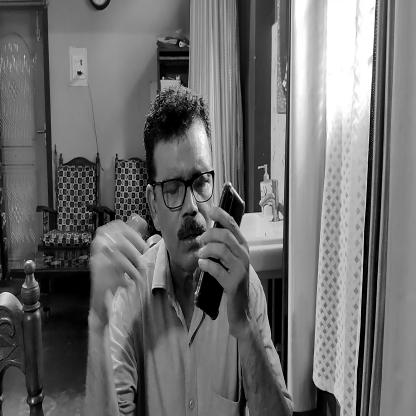Distracted: (147, 88, 216, 276)
